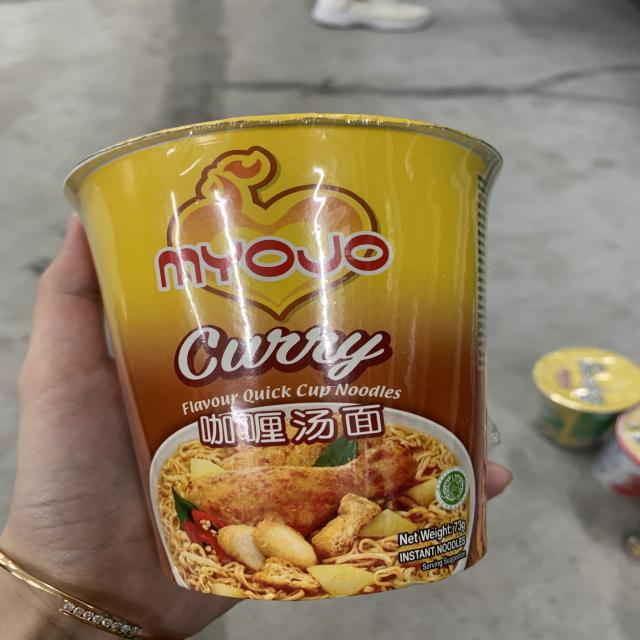object_name: (86, 134, 494, 589)
